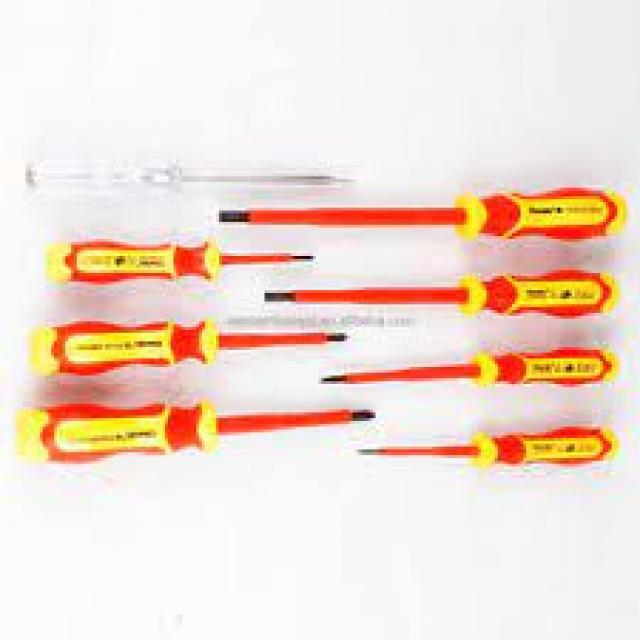screwdriver: (10, 396, 377, 474), (208, 180, 634, 243), (24, 314, 354, 380), (260, 263, 622, 323), (314, 342, 624, 396), (350, 419, 623, 476), (30, 236, 320, 287)
